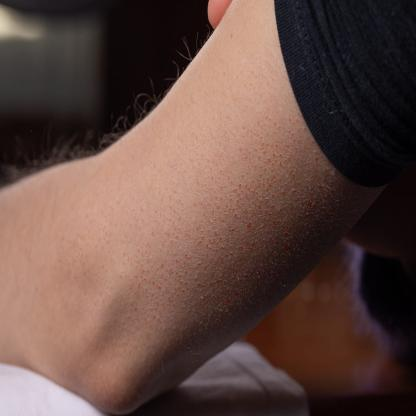Chicken Skin: (112, 181, 209, 338), (205, 156, 287, 235)
